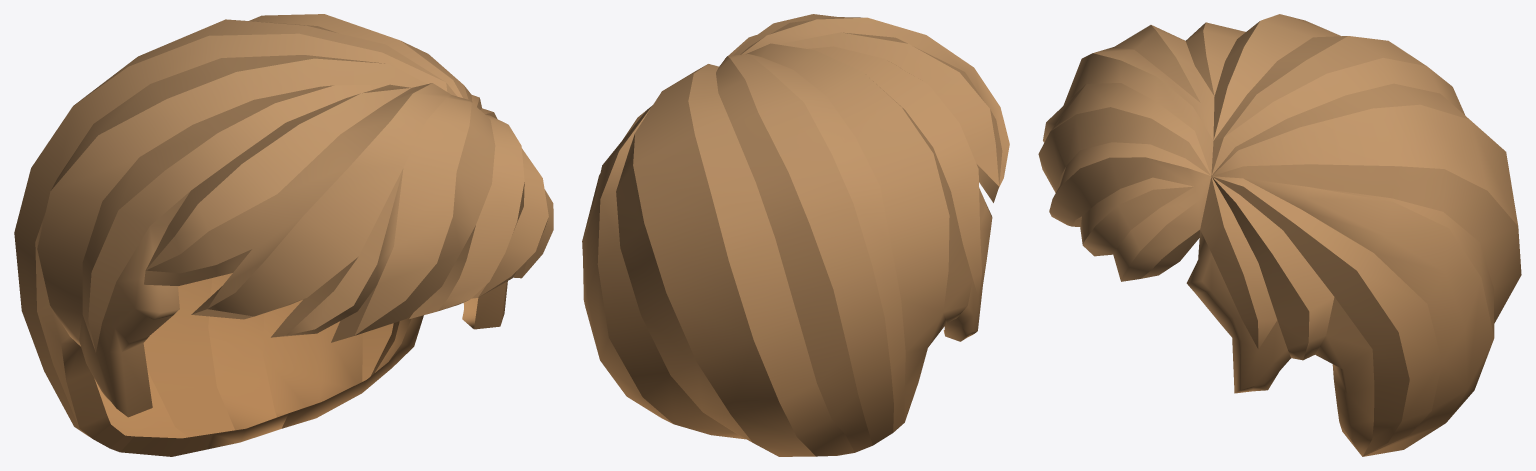
File: Hair_17.fbx
3 views of the same model, side by side, from view 1: azimuth 30°, elevation 25°; view 2: azimuth 150°, elevation 25°; view 3: azimuth 270°, elevation 25° (orthographic). The views are drawn at different scales.
Visible parts, largest first — view 1: Hair_17; view 2: Hair_17; view 3: Hair_17.
Part boxes in pixels (x1,y1,x2,y2): Hair_17: [14, 14, 553, 456]; Hair_17: [582, 14, 1009, 456]; Hair_17: [1038, 14, 1521, 456].
Bounding box in the file's own units: 55.33 × 52.55 × 60.8.
